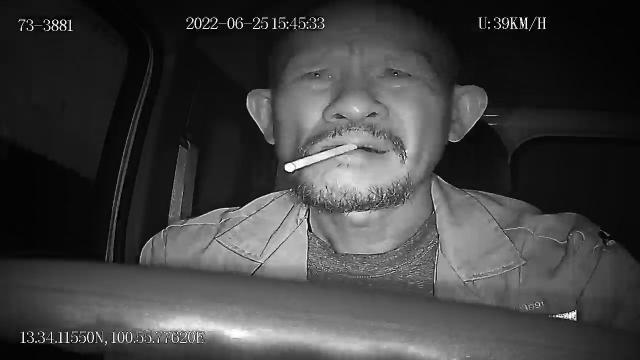SafeDriving: (370, 55, 424, 88), (290, 57, 342, 90)
Smoking: (283, 144, 357, 174)
